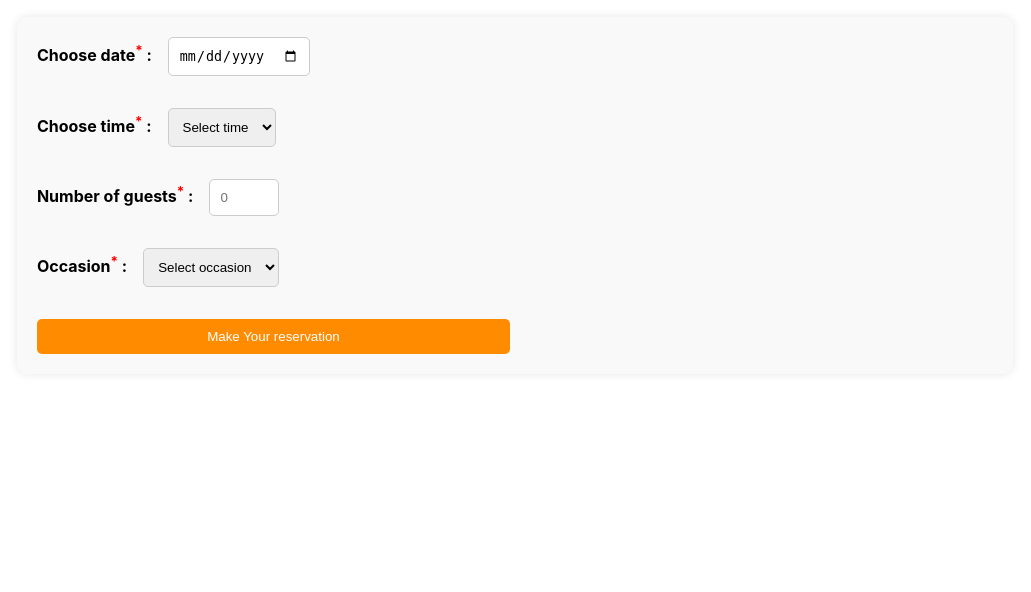
it: Reservations Component › displays error messages for empty fields on form submission
The image size is (1031, 592).
# Submit the form without filling out any fields
Step 1. Click the button with aria-label "Submit reservation" → click(273, 337), box x1=37 y1=319 x2=510 y2=354
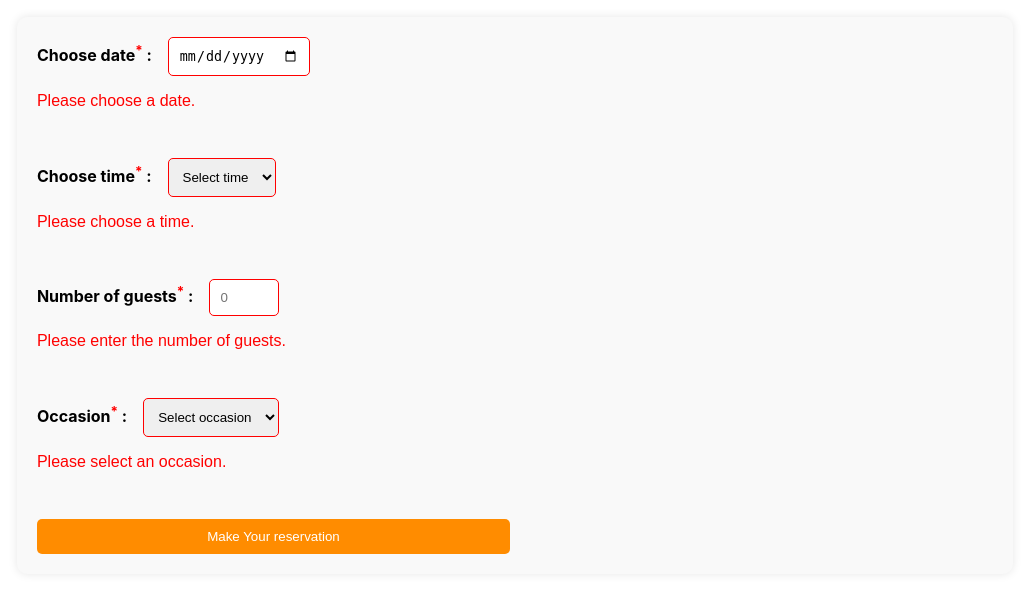
Result: the text "Please choose a date." is shown at x1=37 y1=92 x2=195 y2=109
Result: the text "Please choose a time." is shown at x1=37 y1=213 x2=194 y2=230
Result: the text "Please enter the number of guests." is shown at x1=37 y1=332 x2=286 y2=349
